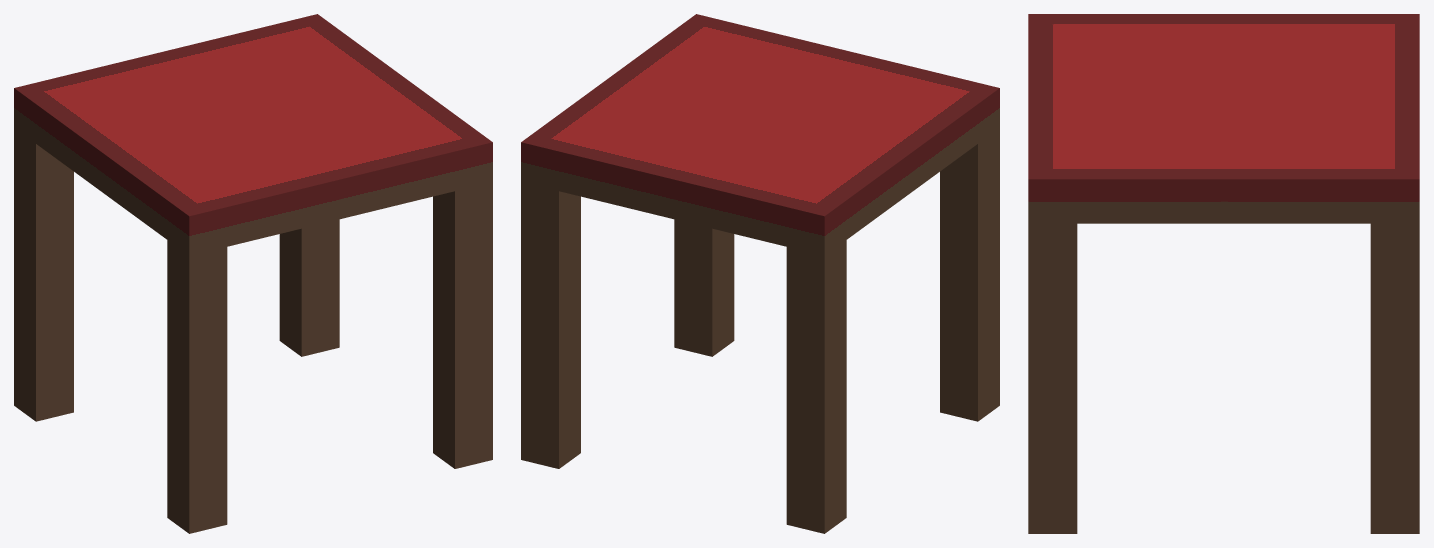
File: PlayerShop Table.fbx
3 renders of one model, left to right at view 1: azimuth 30°, elevation 25°; view 2: azimuth 150°, elevation 25°; view 3: azimuth 270°, elevation 25°, orthographic. The views are drawn at different scales.
Visible parts, largest first — view 1: 天板, cube_1, cube, cube_3, cube_2; view 2: 天板, cube_3, cube_2, cube_1, cube; view 3: 天板, cube, cube_2.
Boxes of the visible parts, x1=… form: 天板: x1=14, y1=14, x2=492, y2=255; cube_1: x1=167, y1=240, x2=227, y2=533; cube: x1=433, y1=182, x2=492, y2=468; cube_3: x1=14, y1=128, x2=73, y2=421; cube_2: x1=279, y1=219, x2=339, y2=356; 天板: x1=521, y1=14, x2=999, y2=255; cube_3: x1=786, y1=240, x2=846, y2=533; cube_2: x1=521, y1=182, x2=580, y2=468; cube_1: x1=940, y1=128, x2=999, y2=421; cube: x1=674, y1=219, x2=734, y2=356; 天板: x1=1028, y1=14, x2=1419, y2=223; cube: x1=1028, y1=223, x2=1077, y2=533; cube_2: x1=1370, y1=223, x2=1419, y2=533.
Size of the model in its own units: 100 by 100 by 100.
Materials: 2 (2 with a texture image).
